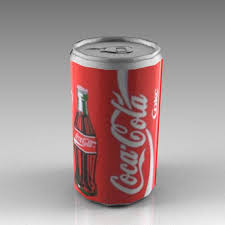coke: (105, 80, 153, 195)
